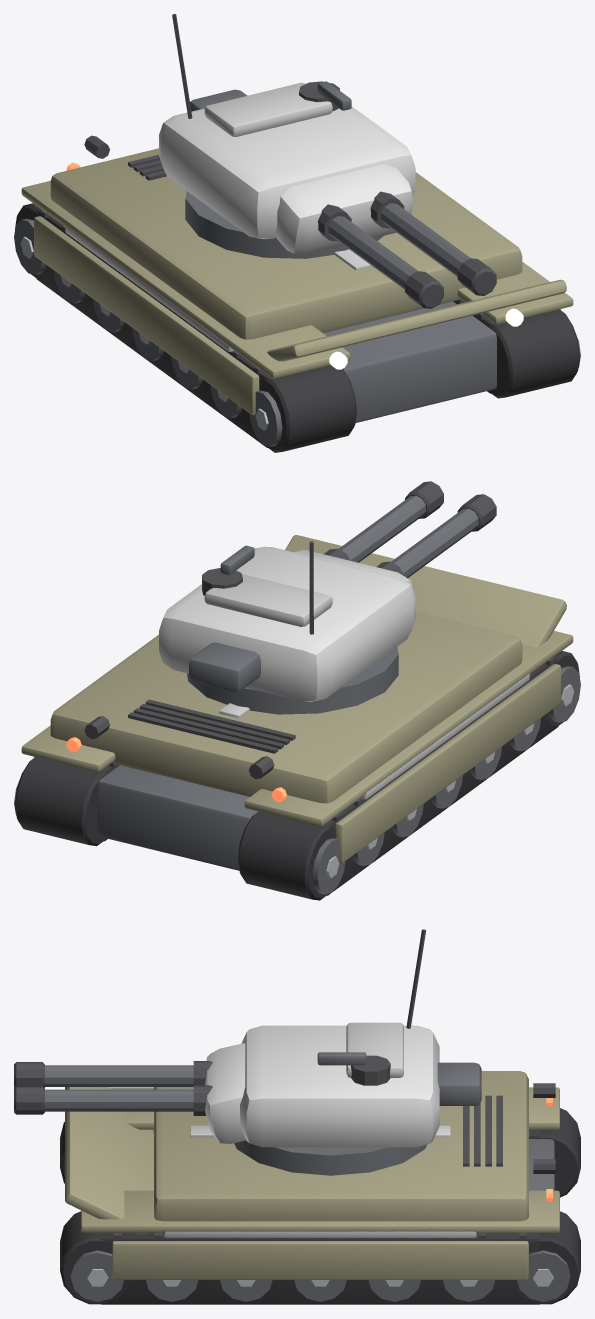
Rendered from tank_heavy.glb.
3 renders of one model, top to bottom at view 1: azimuth 30°, elevation 25°; view 2: azimuth 150°, elevation 25°; view 3: azimuth 270°, elevation 25°, orthographic. The views are drawn at different scales.
Visible parts, largest first — view 1: tank_heavy, turret; view 2: tank_heavy, turret; view 3: tank_heavy, turret.
Part boxes in pixels (left/top/right/bottom): tank_heavy: left=14, top=135, right=580, bottom=452; turret: left=159, top=14, right=496, bottom=308; tank_heavy: left=14, top=535, right=580, bottom=900; turret: left=159, top=481, right=496, bottom=714; tank_heavy: left=60, top=1071, right=580, bottom=1304; turret: left=14, top=929, right=481, bottom=1175.
Bounding box in the file's own units: 1.53 × 1.38 × 2.56.
